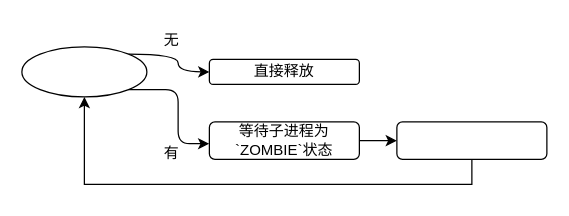
Some shapes in this 569 by 216 pixel diagram are drawn without their labels. The centre of each missing label's shape, as x and y in pixels:
"遍历查找子进程" goes at point (84, 71).
"释放子进程资源" goes at point (471, 140).
